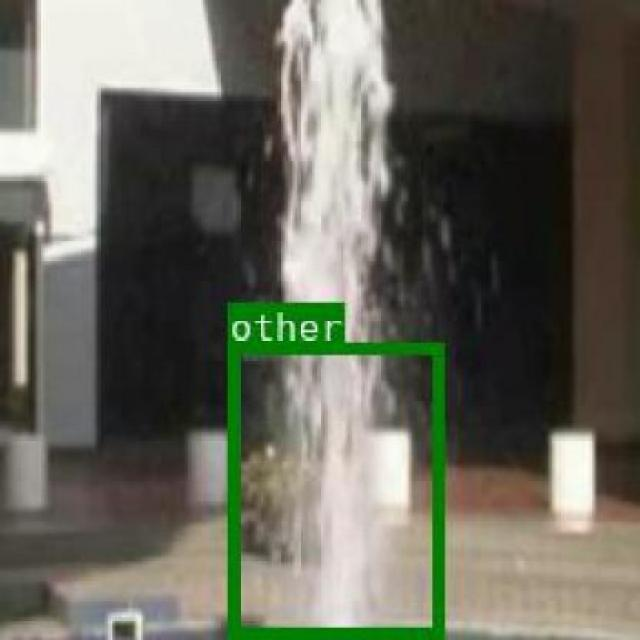other: (228, 342, 440, 636)
